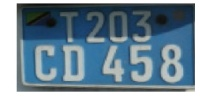T: (58, 10, 82, 44)
